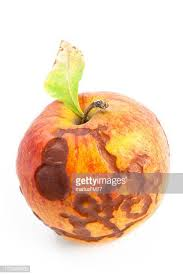damaged_apple: (16, 93, 172, 243)
